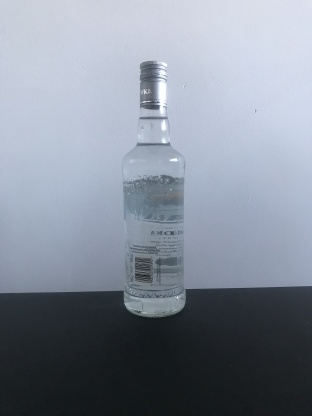nakretka: (138, 59, 168, 111)
